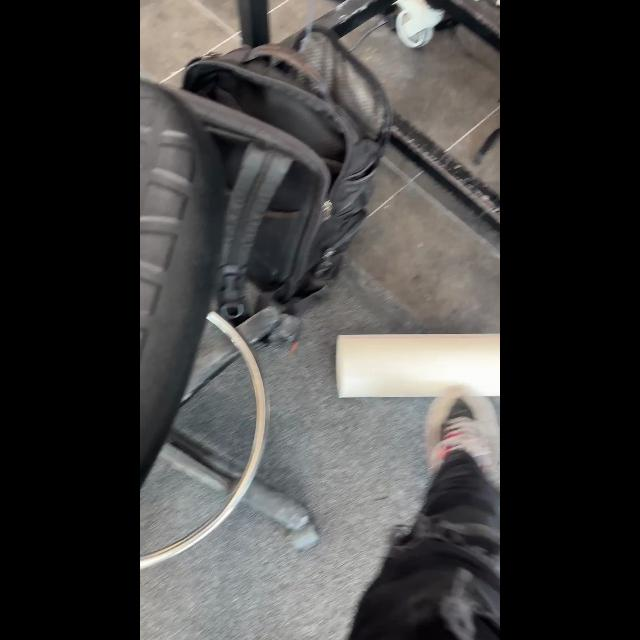CORAL: (335, 332, 499, 398)
